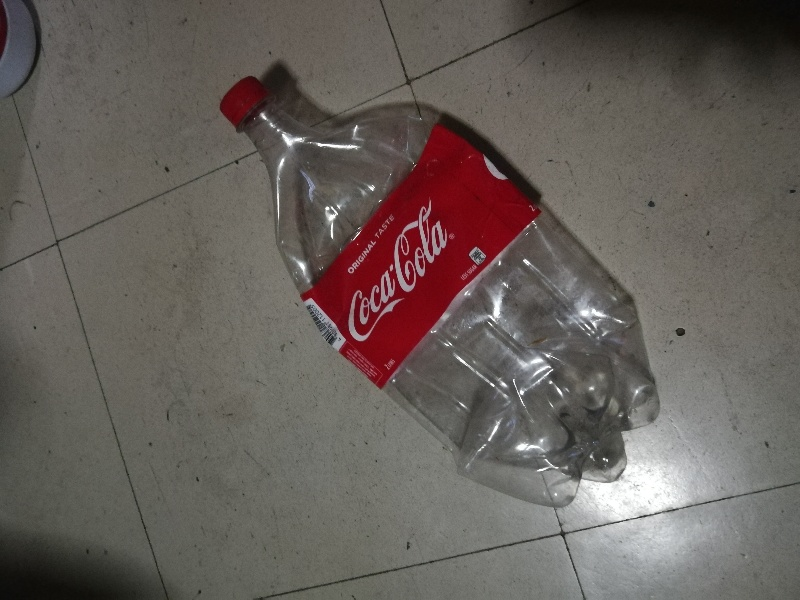PET #1: (216, 74, 655, 503)
